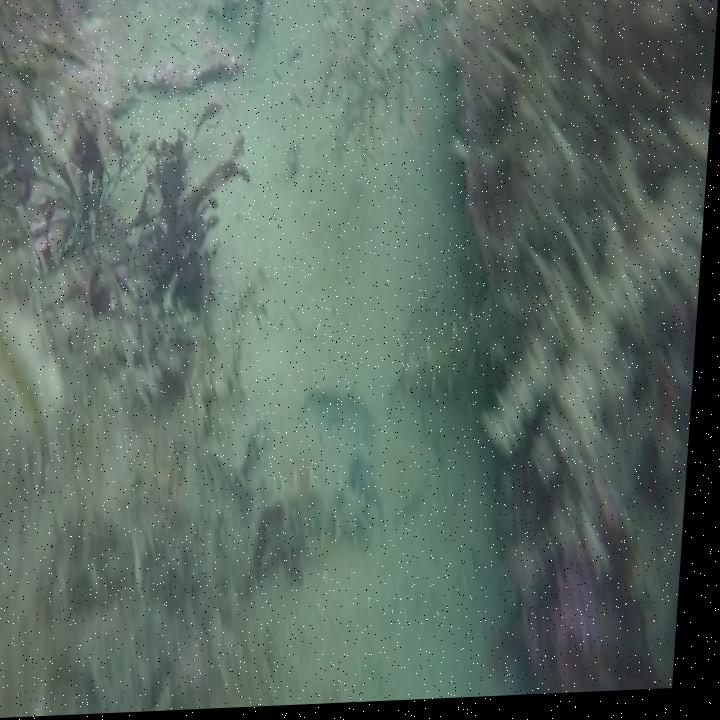holothurian: (402, 293, 517, 397), (272, 470, 381, 551)
